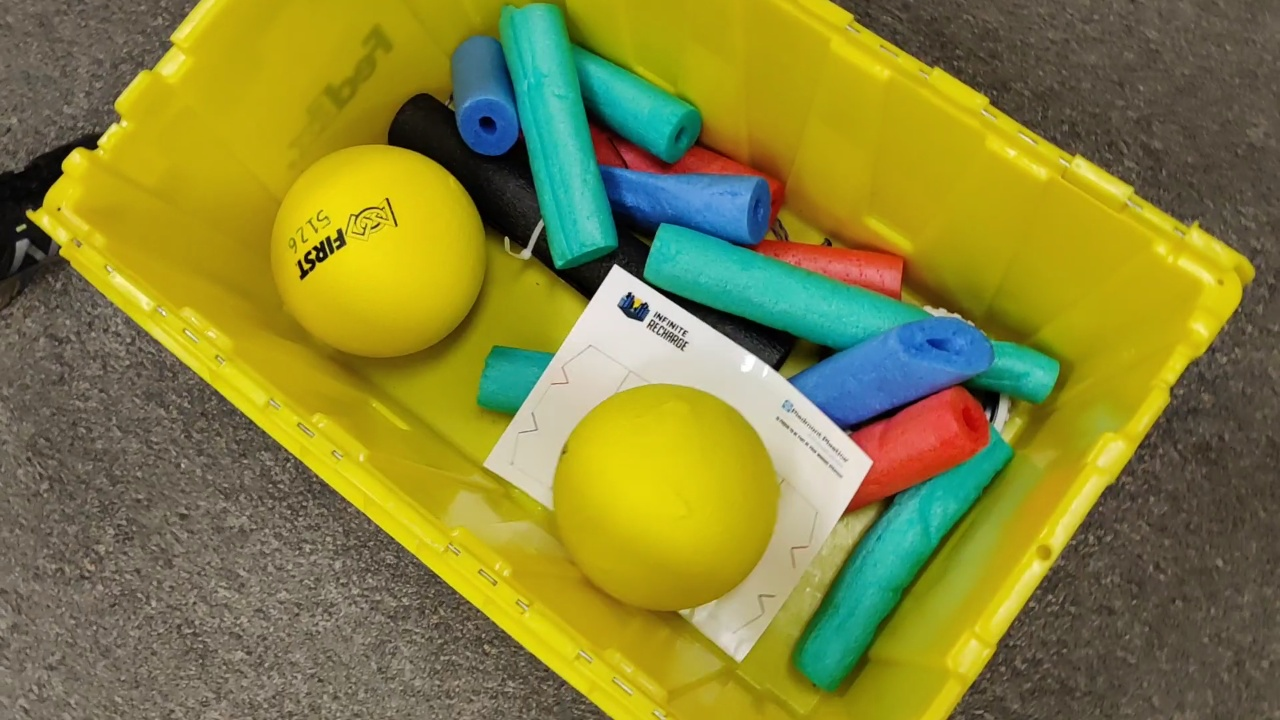Ball: (555, 384, 779, 614), (267, 143, 493, 358)
